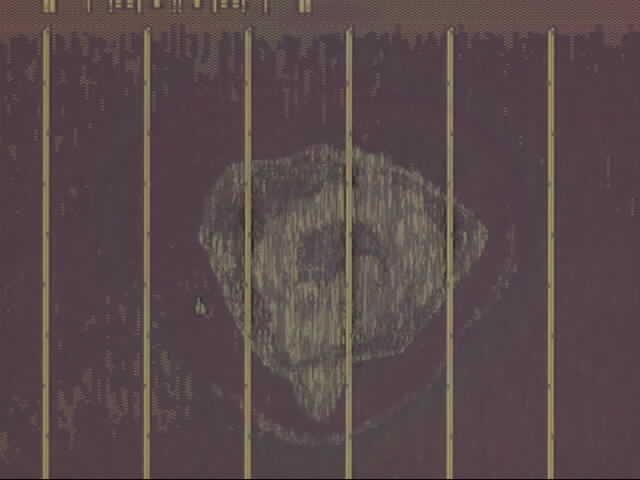BLOCK ETCH: (93, 37, 574, 468)
